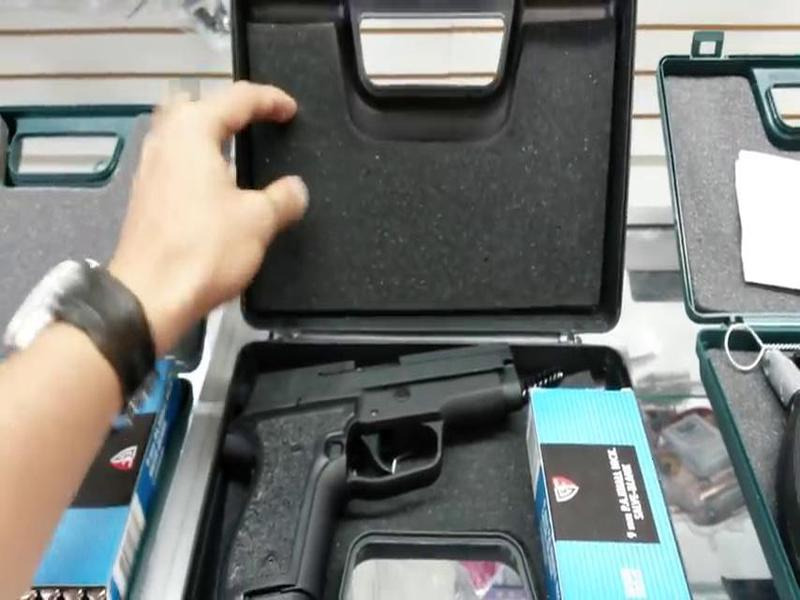Pistola: (207, 331, 545, 595)
